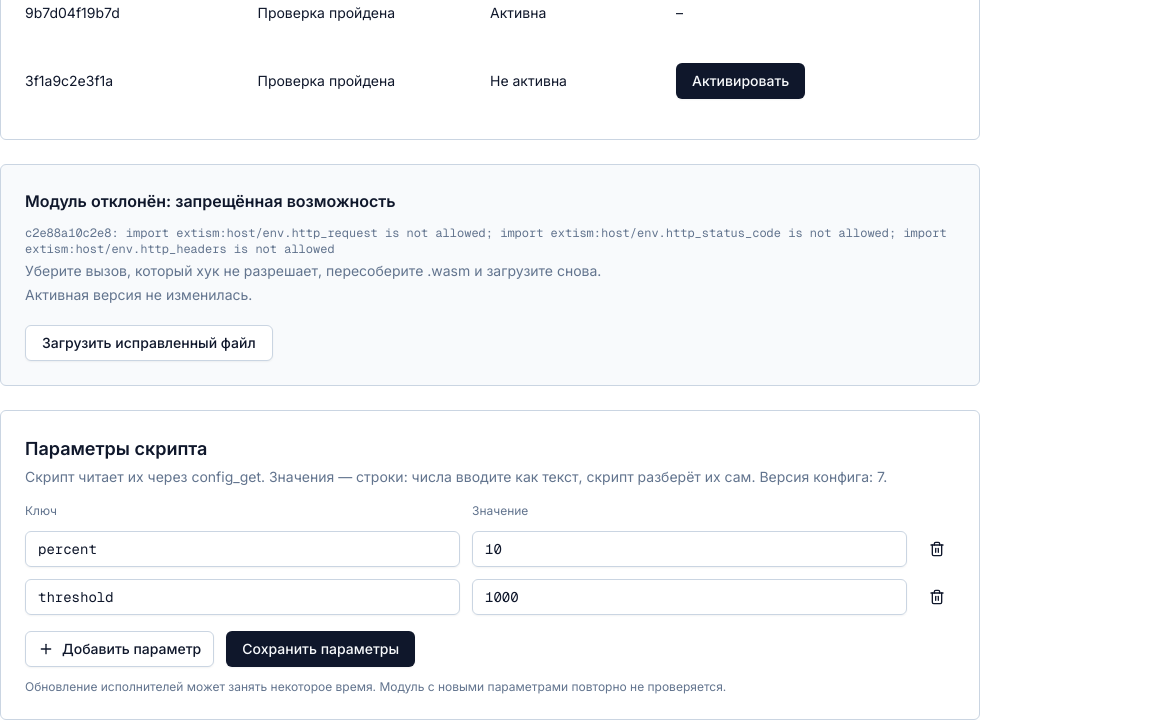
Test: TenantHookPage › does not send an unchanged config
(page scrolled)
Expected: the field showing "10" is shown, [472, 531, 907, 567]
Click the button "Сохранить параметры" at (321, 649), box [226, 631, 415, 667]
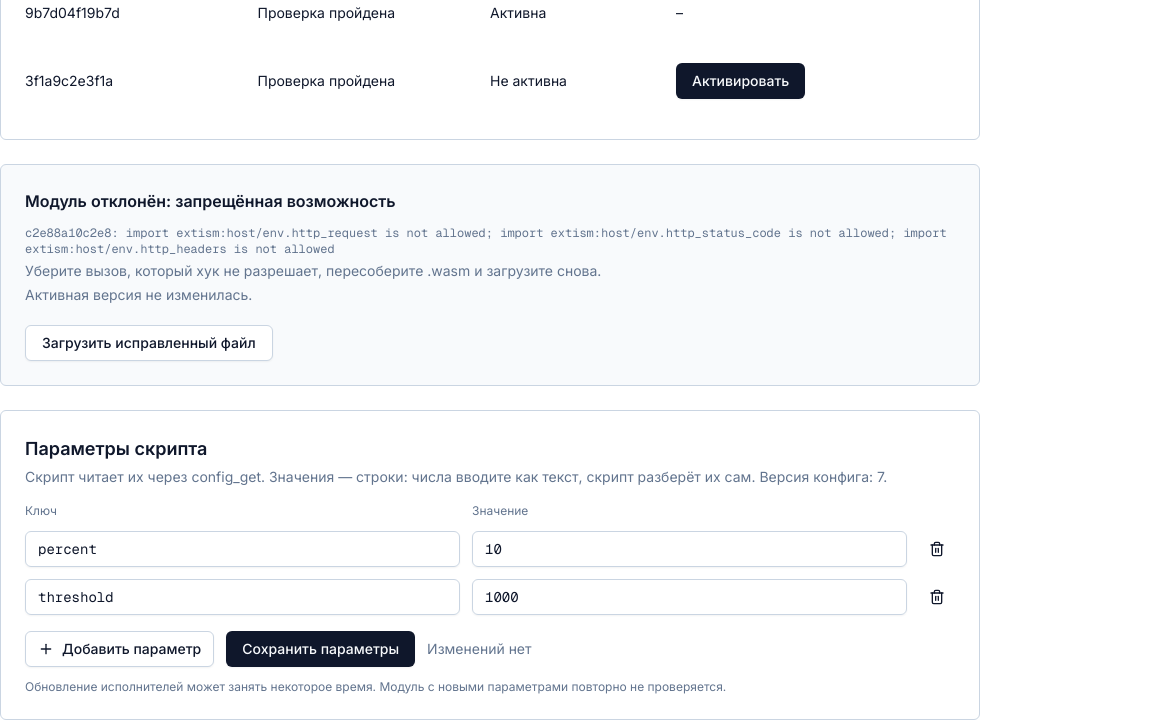
Now the text "Изменений нет" is shown, box [427, 639, 532, 659]
